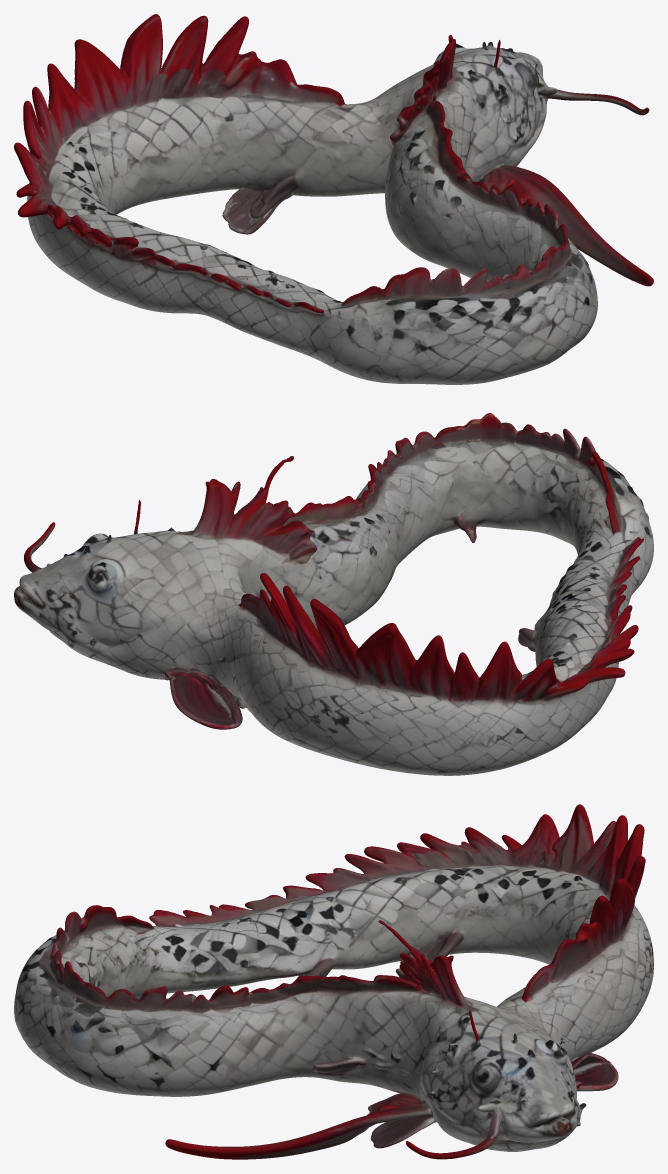
File: oarZ_3.glb
3 renders of one model, top to bottom at view 1: azimuth 30°, elevation 25°; view 2: azimuth 150°, elevation 25°; view 3: azimuth 270°, elevation 25°, orthographic.
Visible parts, largest first — view 1: tripo_node_de081610-ef83-4941-8d85-a11364bc40ee; view 2: tripo_node_de081610-ef83-4941-8d85-a11364bc40ee; view 3: tripo_node_de081610-ef83-4941-8d85-a11364bc40ee.
Part boxes in pixels (box(x1,y1,x2,y2)): tripo_node_de081610-ef83-4941-8d85-a11364bc40ee: box(14, 14, 653, 384); tripo_node_de081610-ef83-4941-8d85-a11364bc40ee: box(14, 413, 653, 775); tripo_node_de081610-ef83-4941-8d85-a11364bc40ee: box(14, 804, 653, 1159).
Bounding box in the file's own units: 1 × 0.3012 × 0.9133.
1 material, 1 textured.
